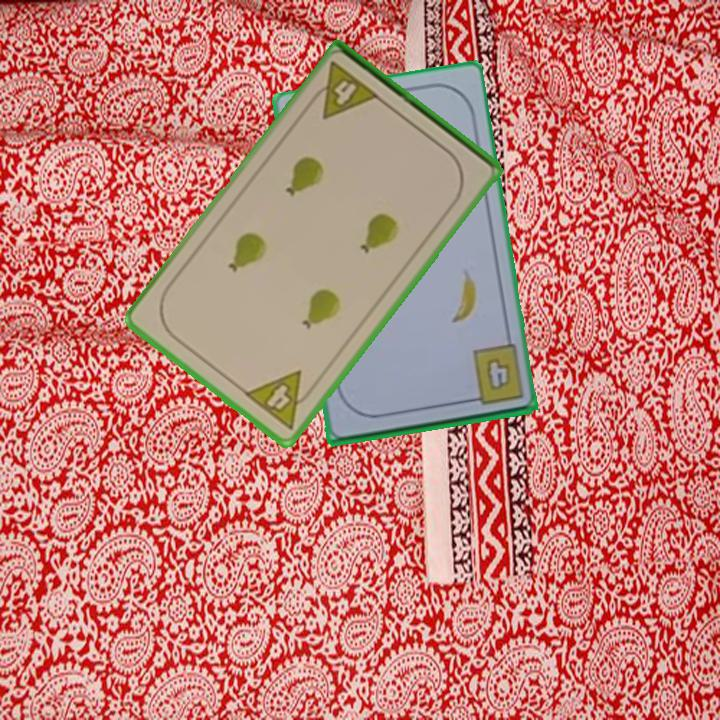4b: (462, 342, 527, 409)
4p: (240, 367, 321, 433), (304, 57, 383, 123)
